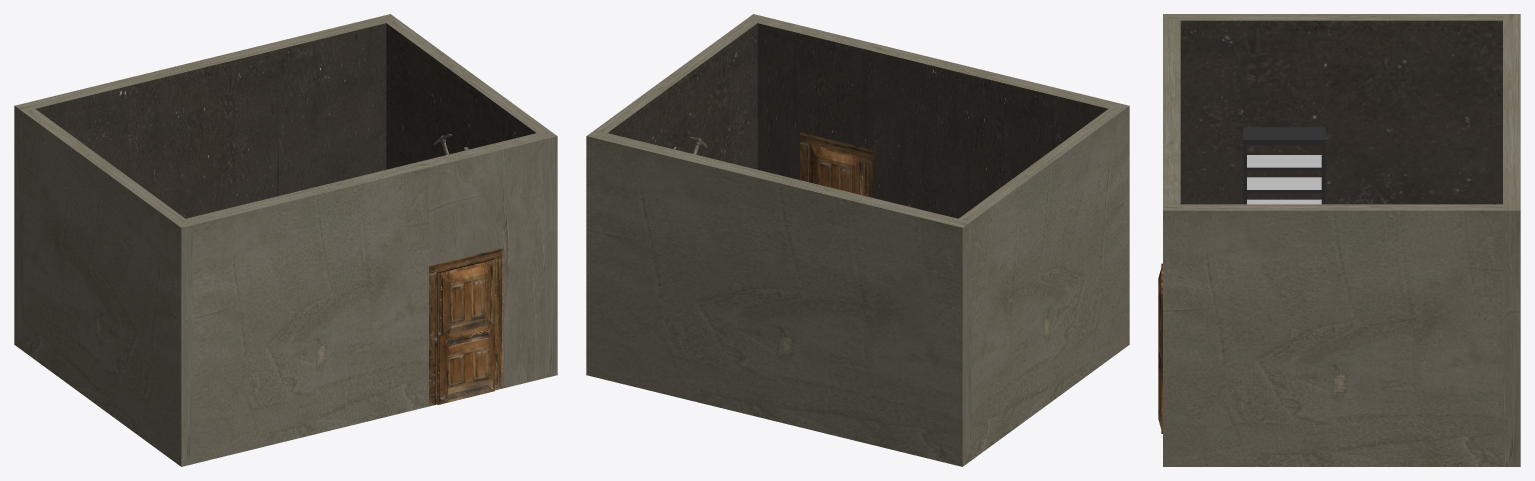
The model's file is Room1_dark 1.fbx.
3 views of the same model, side by side, from view 1: azimuth 30°, elevation 25°; view 2: azimuth 150°, elevation 25°; view 3: azimuth 270°, elevation 25° (orthographic). The views are drawn at different scales.
Visible parts, largest first — view 1: wall.009, wall.007, wall.005, wall, wall.006, Cube.031, Cube.030; view 2: wall.007, wall.005, wall.009, wall, wall.006, Cube.032, Cube.030; view 3: wall.006, wall.005, wall.007, shelf, wall.009, wall, Cube.031.
Boxes of the visible parts, x1,y1,x2,y2 form: wall.009: (186, 161, 428, 463); wall.007: (14, 14, 398, 350); wall.005: (22, 109, 193, 466); wall: (421, 133, 544, 388); wall.006: (386, 20, 557, 377); Cube.031: (437, 259, 494, 404); Cube.030: (429, 248, 502, 406); wall.007: (586, 130, 970, 466); wall.005: (958, 103, 1129, 460); wall.009: (873, 45, 1116, 218); wall: (757, 17, 881, 179); wall.006: (595, 14, 765, 169); Cube.032: (808, 144, 865, 195); Cube.030: (800, 132, 873, 197); wall.006: (1163, 204, 1502, 466); wall.005: (1163, 14, 1502, 204); wall.007: (1503, 14, 1520, 466); shelf: (1243, 127, 1325, 204); wall.009: (1163, 20, 1180, 143); wall: (1163, 143, 1180, 204); Cube.031: (1158, 263, 1162, 433).
Bounding box in the file's own units: 1448 × 883 × 1128.
